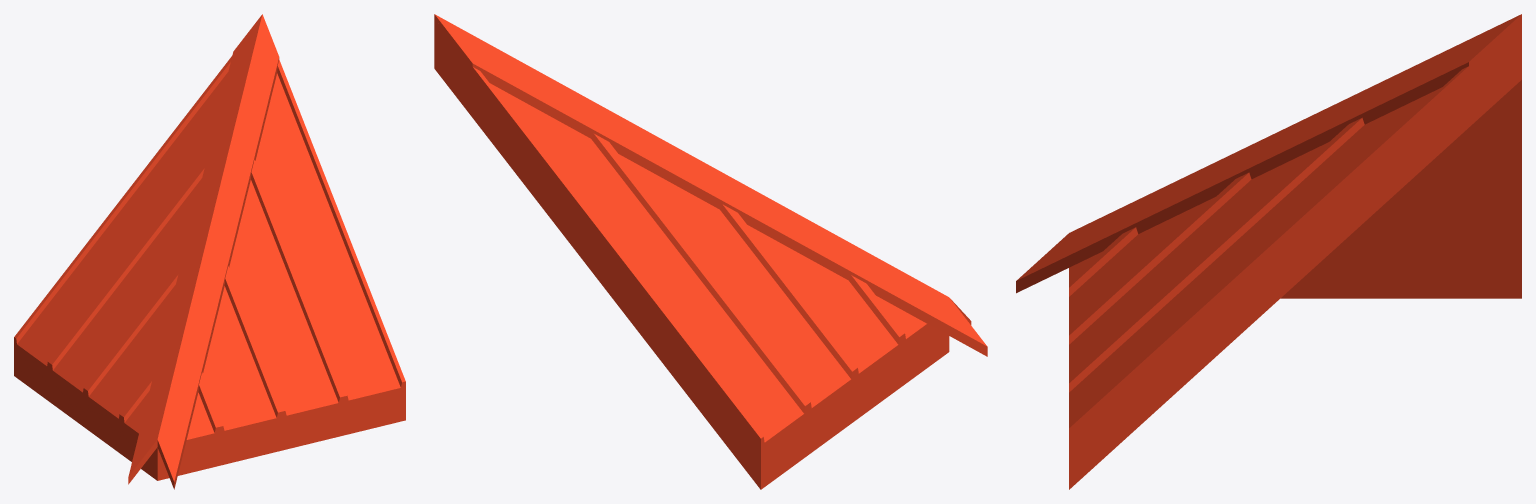
Rendered from roof-metal-regular-2x2m-corner-a.fbx.
3 renders of one model, left to right at view 1: azimuth 30°, elevation 25°; view 2: azimuth 150°, elevation 25°; view 3: azimuth 270°, elevation 25°, orthographic. The views are drawn at different scales.
Visible parts, largest first — view 1: roof-metal-regular-2x2m-corner-a; view 2: roof-metal-regular-2x2m-corner-a; view 3: roof-metal-regular-2x2m-corner-a.
Part boxes in pixels (x1,y1,x2,y2): roof-metal-regular-2x2m-corner-a: (14,14,405,489); roof-metal-regular-2x2m-corner-a: (434,14,987,489); roof-metal-regular-2x2m-corner-a: (1016,14,1521,489).
Size of the model in its own units: 2.23 by 2.32 by 2.23.
